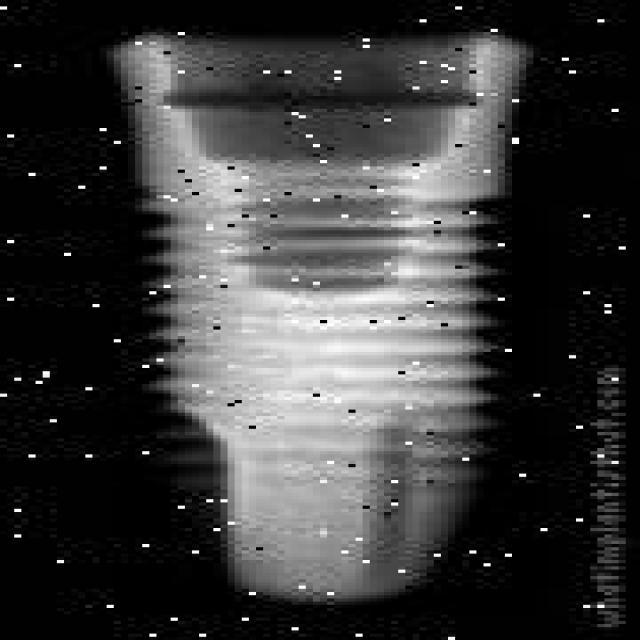OCO Biomedical Implant: (100, 29, 540, 611)
